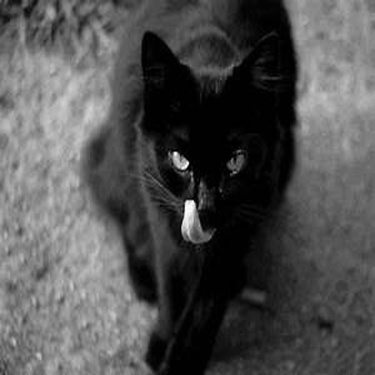cat: (77, 8, 301, 368)
